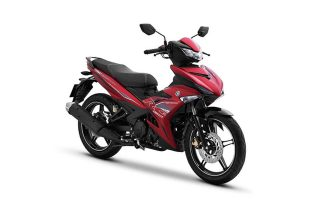motorcycle: (66, 35, 246, 187)
